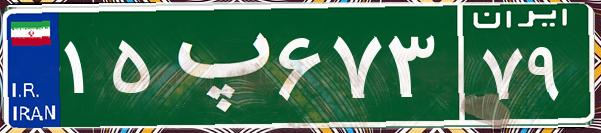1: (57, 26, 110, 107)
3: (385, 28, 445, 110)
5: (110, 28, 158, 105)
6: (273, 28, 330, 110)
7: (330, 28, 385, 110), (475, 38, 525, 113)
9: (525, 38, 570, 115)
پ: (158, 15, 273, 115)
